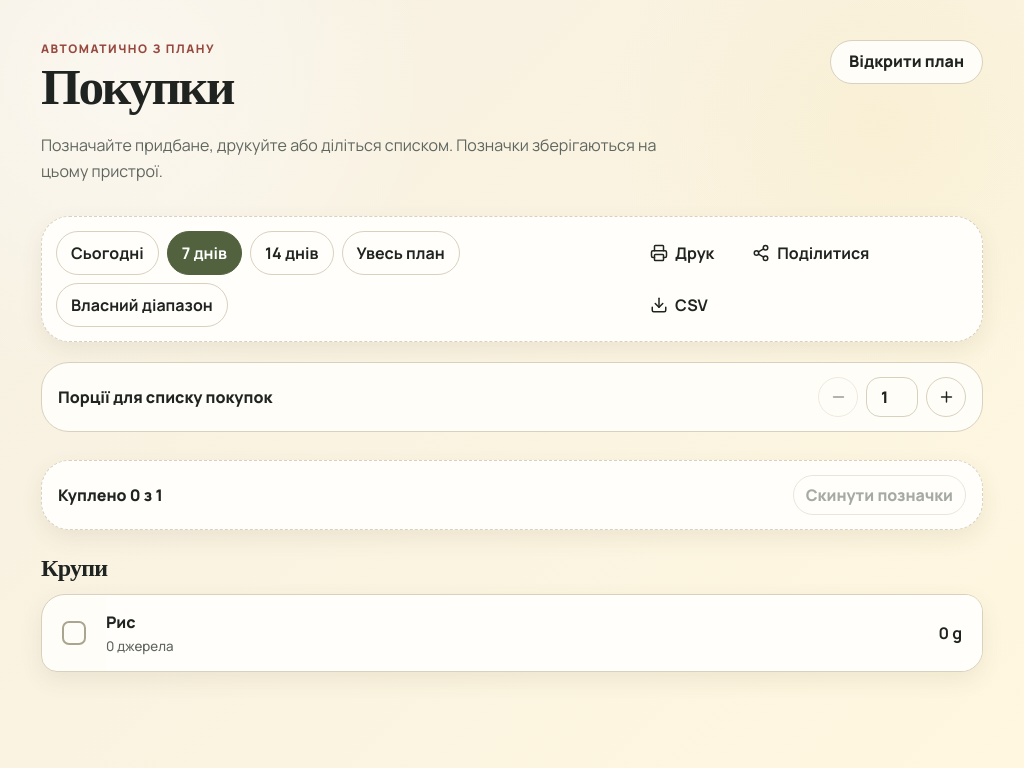
ShoppingListPage › reloads for a selected preset and keeps stale data on failure
This screenshot has width=1024, height=768.
Expected: the text "Рис" is shown, [106,611,136,633]
Click the button "14 днів". click: (292, 253)
box: [250,231,334,275]
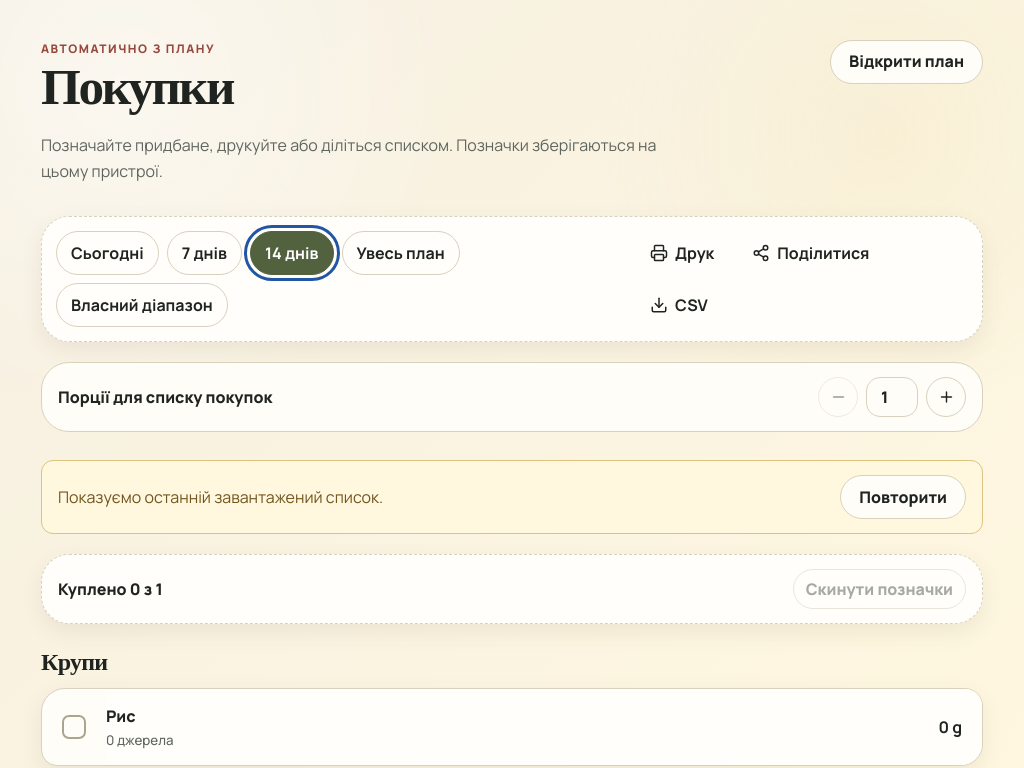
Expected: the text "Рис" is shown, [106,705,136,727]
Expected: the message "Показуємо останній завантажений список. Повторити" is shown, [41,460,983,534]
